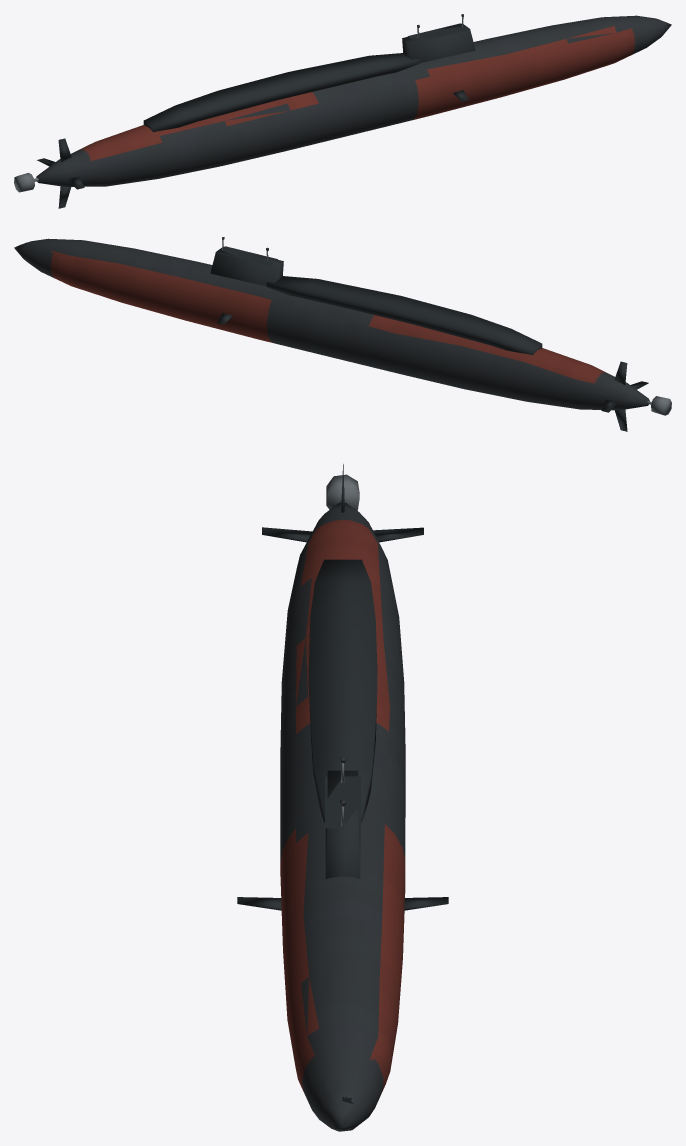
Rendered from UK_SSBN_Vanguard_LOD3.fbx.
3 renders of one model, top to bottom at view 1: azimuth 30°, elevation 25°; view 2: azimuth 150°, elevation 25°; view 3: azimuth 270°, elevation 25°, orthographic. The views are drawn at different scales.
Parts seen in each view (by area): view 1: UK_SSBN_Vanguard_LOD3; view 2: UK_SSBN_Vanguard_LOD3; view 3: UK_SSBN_Vanguard_LOD3.
Part boxes in pixels (bbox=[...]): UK_SSBN_Vanguard_LOD3: bbox=[14, 14, 671, 208]; UK_SSBN_Vanguard_LOD3: bbox=[14, 237, 671, 431]; UK_SSBN_Vanguard_LOD3: bbox=[237, 464, 448, 1131].
Size of the model in its own units: 155 by 21.62 by 21.64.
6 materials, 1 textured.
